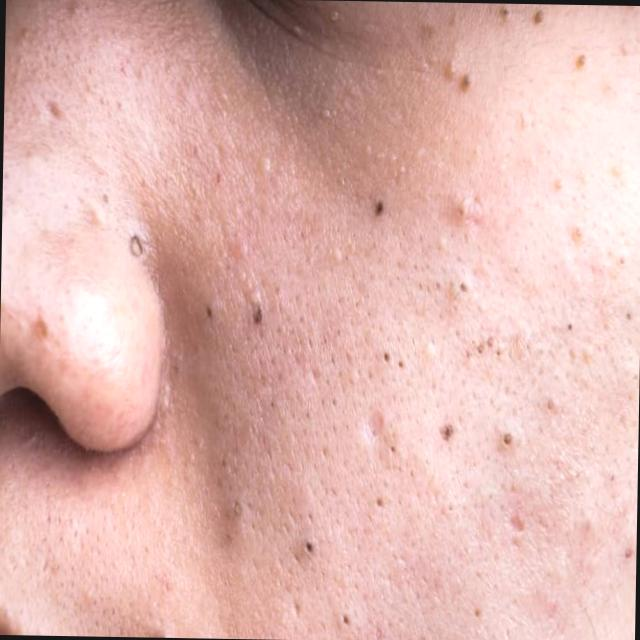blackhead: (130, 232, 144, 260), (34, 318, 46, 341), (232, 502, 242, 516), (574, 227, 582, 239), (554, 179, 564, 188), (103, 190, 109, 204), (376, 497, 384, 507), (206, 306, 212, 318), (172, 362, 178, 374), (504, 434, 511, 444), (459, 282, 466, 292), (220, 459, 226, 470), (546, 400, 552, 410), (342, 615, 348, 624), (306, 542, 311, 552), (397, 360, 403, 368), (474, 609, 480, 617), (626, 313, 632, 321), (434, 281, 440, 289), (384, 353, 389, 361), (487, 339, 492, 347), (270, 400, 274, 410), (332, 398, 336, 407), (372, 429, 377, 436), (478, 346, 482, 354), (626, 550, 630, 558), (306, 411, 310, 419), (410, 470, 414, 478), (488, 492, 492, 500), (496, 350, 501, 356), (568, 323, 572, 330), (391, 446, 395, 452), (610, 474, 614, 480), (620, 260, 624, 264)
